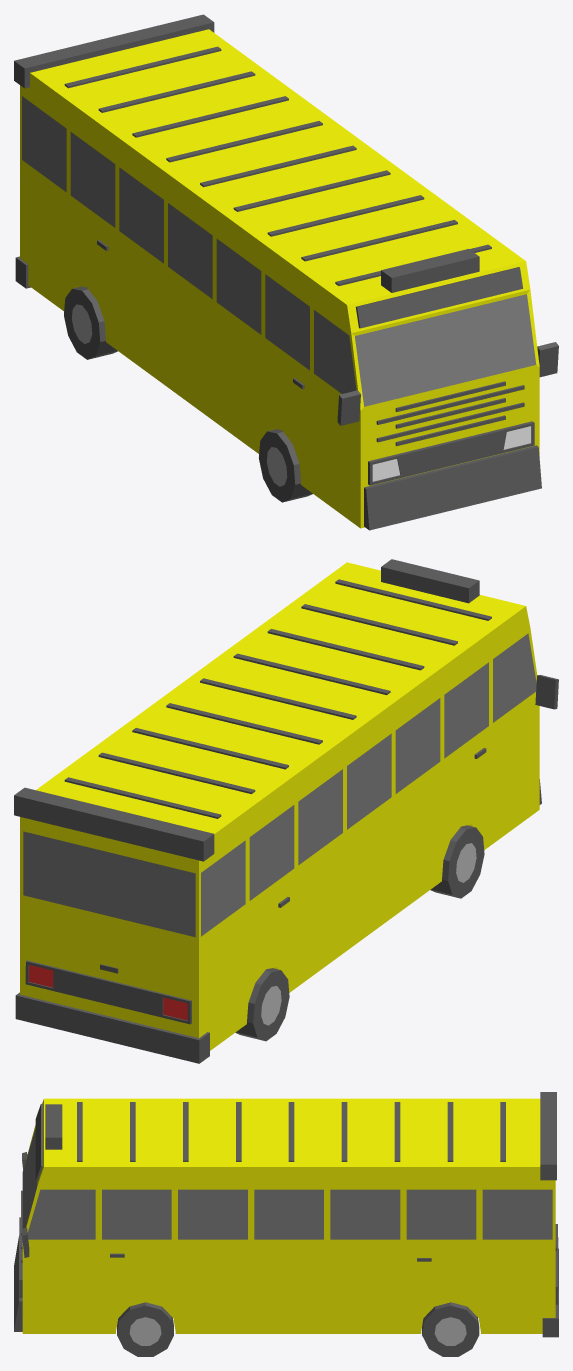
File: SM_Bus_01_01.FBX
The picture shows the model from 3 angles, top to bottom: view 1: azimuth 30°, elevation 25°; view 2: azimuth 150°, elevation 25°; view 3: azimuth 270°, elevation 25°; orthographic projection. The views are drawn at different scales.
Parts seen in each view (by area): view 1: SM_Bus_01_01, SM_Wheel_LFront001, SM_Wheel_RBack001; view 2: SM_Bus_01_01, SM_Wheel_RBack001, SM_Wheel_LFront001; view 3: SM_Bus_01_01, SM_Wheel_LBack001, SM_Wheel_LFront002.
Boxes of the visible parts, x1=… form: SM_Bus_01_01: x1=14, y1=14, x2=558, y2=530; SM_Wheel_LFront001: x1=259, y1=429, x2=312, y2=502; SM_Wheel_RBack001: x1=64, y1=286, x2=117, y2=359; SM_Bus_01_01: x1=14, y1=559, x2=558, y2=1063; SM_Wheel_RBack001: x1=235, y1=968, x2=289, y2=1041; SM_Wheel_LFront001: x1=430, y1=825, x2=484, y2=898; SM_Bus_01_01: x1=14, y1=1092, x2=558, y2=1337; SM_Wheel_LBack001: x1=422, y1=1302, x2=479, y2=1356; SM_Wheel_LFront002: x1=117, y1=1302, x2=173, y2=1356.
Bounding box in the file's own units: 1.7 × 1.91 × 4.73.
Materials: 1 (1 with a texture image).
